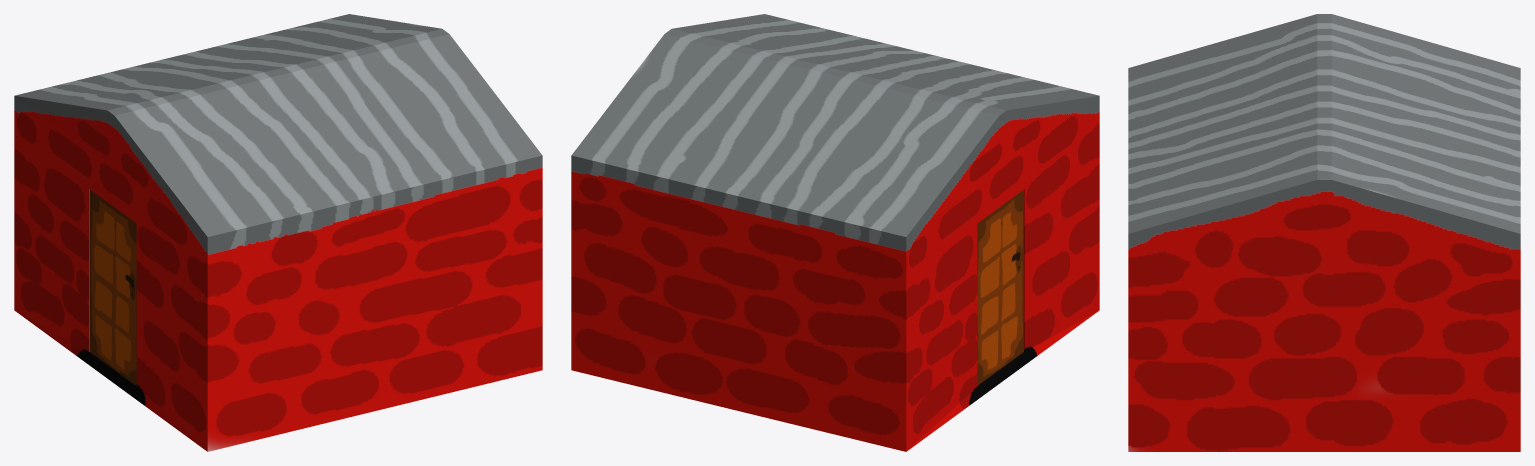
The model's file is house.fbx.
3 renders of one model, left to right at view 1: azimuth 30°, elevation 25°; view 2: azimuth 150°, elevation 25°; view 3: azimuth 270°, elevation 25°, orthographic.
Parts seen in each view (by area): view 1: House, Door; view 2: House, Door; view 3: House.
Boxes of the visible parts, x1,y1,x2,y2 form: House: (14, 14, 542, 451); Door: (90, 190, 136, 385); House: (571, 14, 1099, 451); Door: (977, 190, 1023, 385); House: (1128, 14, 1520, 451).
Size of the model in its own units: 540 by 413 by 540.
Materials: 2 (2 with a texture image).
